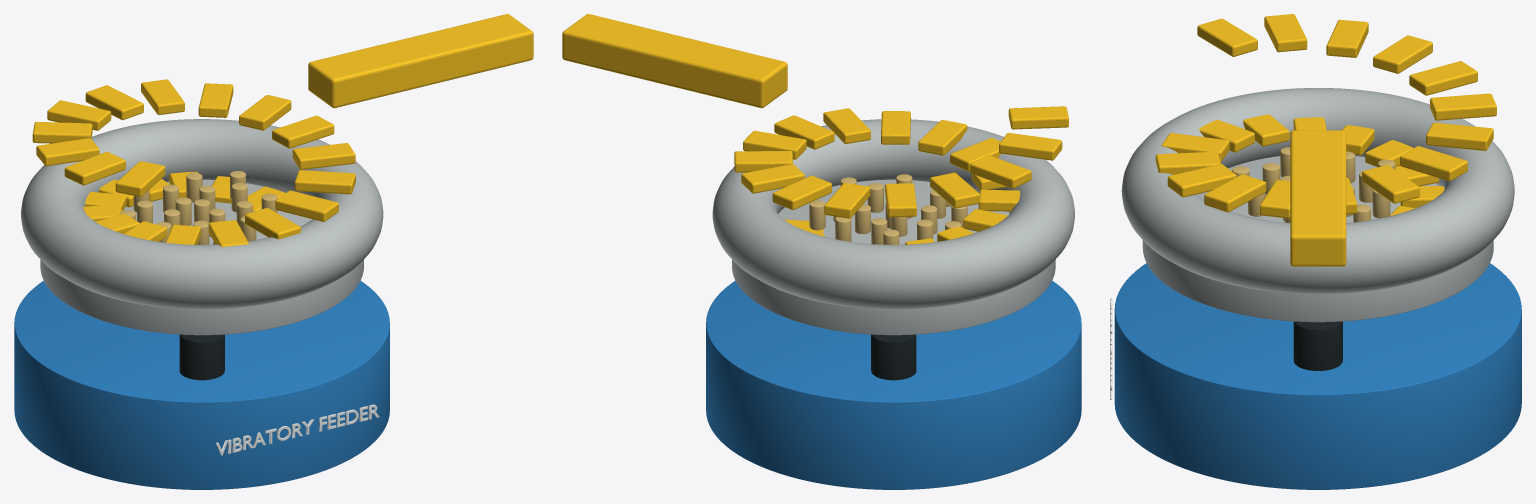
File: vibratory_bowl_feeder.glb
3 renders of one model, left to right at view 1: azimuth 30°, elevation 25°; view 2: azimuth 150°, elevation 25°; view 3: azimuth 270°, elevation 25°, orthographic. The views are drawn at different scales.
Parts seen in each view (by area): view 1: VIBRATORY_BASE, BOWL_RIM, EXIT_TRACK, BOWL_FLOOR, ISOLATOR_240, BOWL_LABEL, KIN_SPIRAL_TRACK_15, KIN_SPIRAL_TRACK_13, KIN_SPIRAL_TRACK_14, KIN_SPIRAL_TRACK_16, KIN_SPIRAL_TRACK_24, KIN_SPIRAL_TRACK_23 (+11 smaller); view 2: VIBRATORY_BASE, BOWL_RIM, EXIT_TRACK, BOWL_FLOOR, ISOLATOR_120, KIN_SPIRAL_TRACK_24, KIN_SPIRAL_TRACK_25, KIN_SPIRAL_TRACK_23, KIN_SPIRAL_TRACK_19, KIN_SPIRAL_TRACK_18, KIN_SPIRAL_TRACK_15, KIN_SPIRAL_TRACK_22 (+10 smaller); view 3: VIBRATORY_BASE, BOWL_RIM, BOWL_FLOOR, EXIT_TRACK, ISOLATOR_0, KIN_SPIRAL_TRACK_19, KIN_SPIRAL_TRACK_21, KIN_SPIRAL_TRACK_20, KIN_SPIRAL_TRACK_18, KIN_SPIRAL_TRACK_14, KIN_SPIRAL_TRACK_25, KIN_SPIRAL_TRACK_13 (+14 smaller).
Boxes of the visible parts, x1,y1,x2,y2 form: VIBRATORY_BASE: (14,280,389,489); BOWL_RIM: (21,119,383,309); EXIT_TRACK: (308,14,533,108); BOWL_FLOOR: (40,179,363,335); ISOLATOR_240: (179,334,224,380); BOWL_LABEL: (215,404,379,455); KIN_SPIRAL_TRACK_15: (292,143,355,169); KIN_SPIRAL_TRACK_13: (275,190,338,221); KIN_SPIRAL_TRACK_14: (294,170,355,194); KIN_SPIRAL_TRACK_16: (272,115,334,148); KIN_SPIRAL_TRACK_24: (64,151,125,185); KIN_SPIRAL_TRACK_23: (36,138,99,166); VIBRATORY_BASE: (706,280,1081,489); BOWL_RIM: (712,119,1074,309); EXIT_TRACK: (562,14,787,108); BOWL_FLOOR: (732,179,1055,335); ISOLATOR_120: (871,334,916,380); KIN_SPIRAL_TRACK_24: (999,133,1062,160); KIN_SPIRAL_TRACK_25: (1008,106,1068,129); KIN_SPIRAL_TRACK_23: (970,155,1031,188); KIN_SPIRAL_TRACK_19: (772,175,831,209); KIN_SPIRAL_TRACK_18: (741,164,804,193); KIN_SPIRAL_TRACK_15: (774,115,834,149); KIN_SPIRAL_TRACK_22: (930,172,980,208); VIBRATORY_BASE: (1114,263,1521,489); BOWL_RIM: (1121,88,1514,294); BOWL_FLOOR: (1142,156,1493,322); EXIT_TRACK: (1290,130,1346,266); ISOLATOR_0: (1293,321,1342,370); KIN_SPIRAL_TRACK_19: (1426,122,1493,150); KIN_SPIRAL_TRACK_21: (1409,61,1477,95); KIN_SPIRAL_TRACK_20: (1430,93,1496,120); KIN_SPIRAL_TRACK_18: (1400,146,1467,181); KIN_SPIRAL_TRACK_14: (1204,174,1266,212); KIN_SPIRAL_TRACK_25: (1197,18,1257,56); KIN_SPIRAL_TRACK_13: (1167,164,1236,197).
Size of the model in its own units: 1.72 by 1.06 by 1.17.
